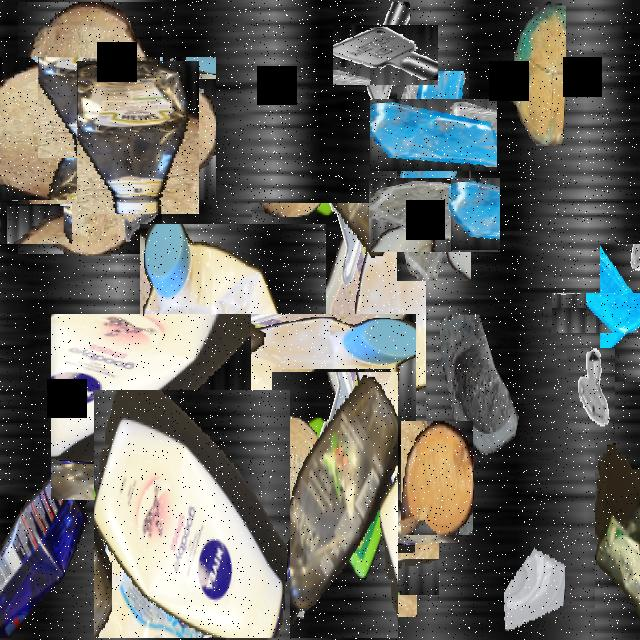glass: (437, 314, 531, 482), (0, 51, 75, 201), (382, 164, 486, 266), (383, 85, 483, 185), (147, 366, 233, 452), (503, 526, 565, 636), (350, 528, 428, 606), (575, 268, 640, 357)
metal: (293, 357, 379, 443), (344, 13, 426, 97), (567, 348, 615, 434), (8, 196, 64, 252)
plastic: (95, 269, 371, 545), (94, 390, 290, 638), (252, 203, 426, 430), (272, 372, 398, 638), (0, 450, 108, 638), (69, 68, 207, 206), (264, 430, 402, 566), (595, 443, 640, 638)
wood: (0, 28, 189, 227), (320, 430, 448, 558), (508, 2, 566, 144), (401, 421, 473, 535)
